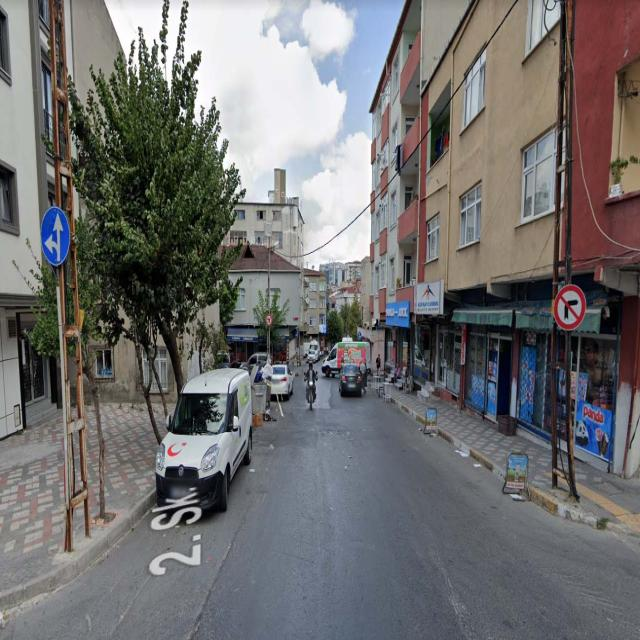ilerisol: (42, 206, 70, 267)
sagadonulmez: (554, 285, 585, 330)
